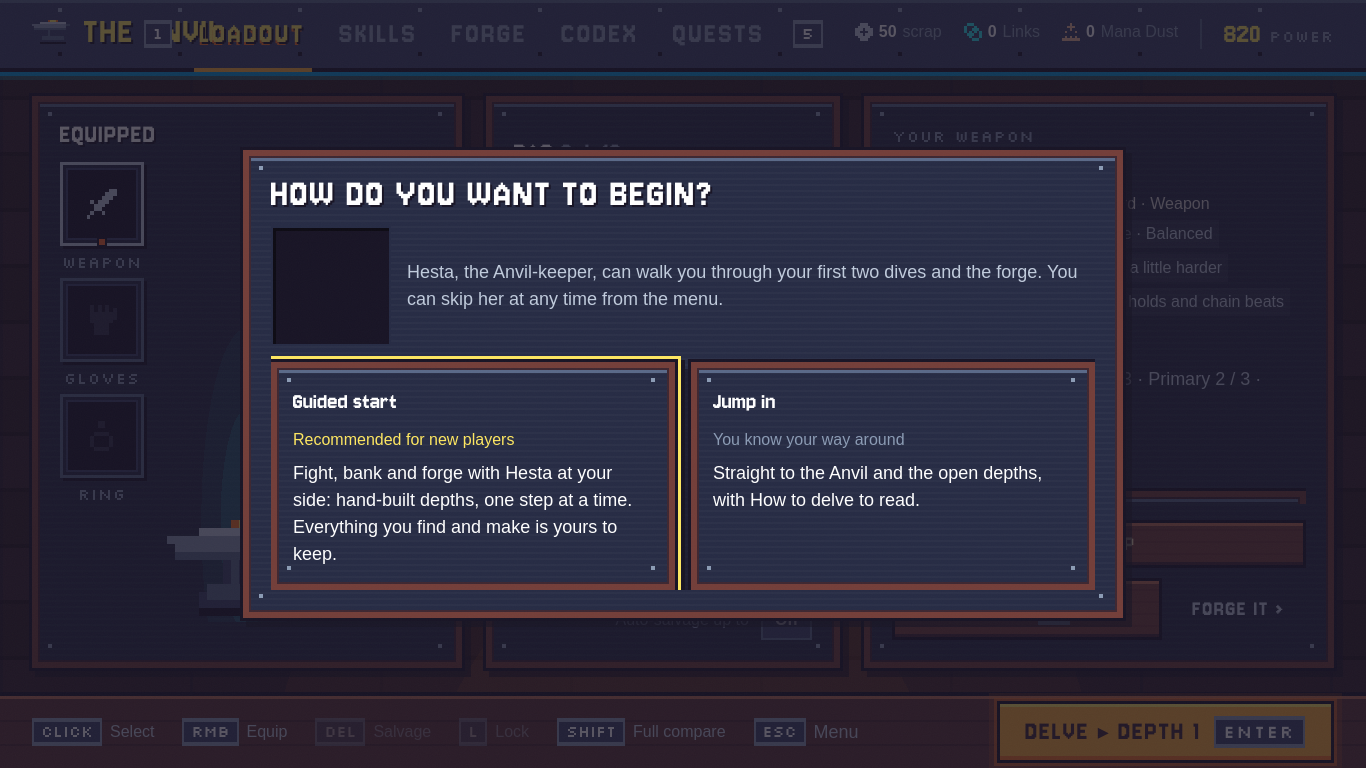
Scenario: DelveCamp › the choice holds the keyboard and the pad: the Anvil behind it is inert
The image size is (1366, 768).
Click the button with test id "guided-jump" at [893, 476], box [691,362,1095,590]
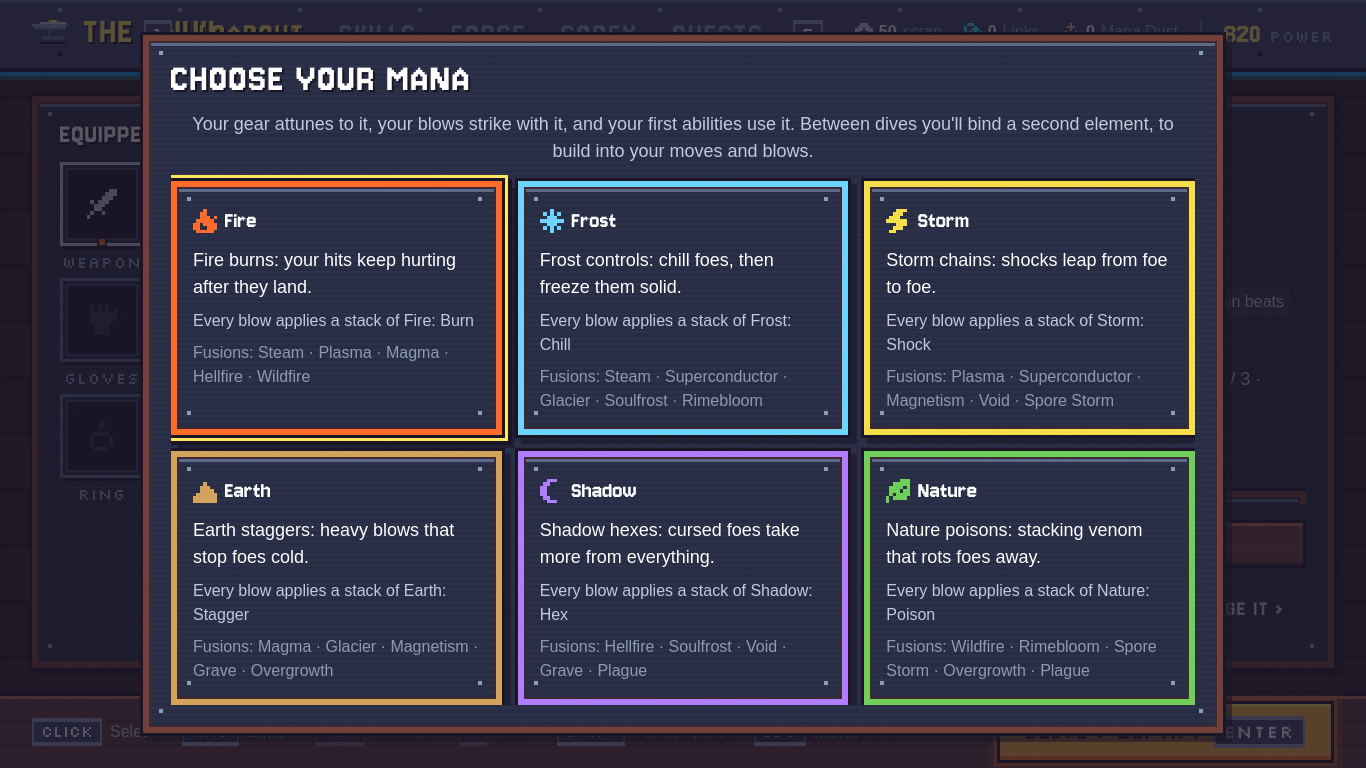
Expected: the element "Choose your mana" is shown
